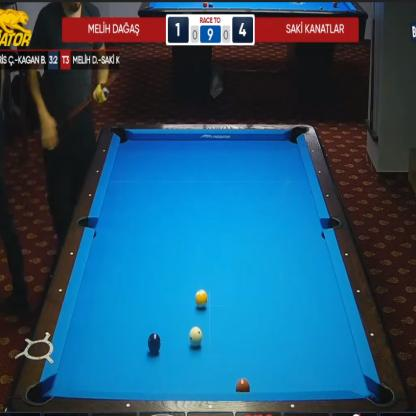Ball: (189, 326, 203, 348), (148, 332, 162, 353), (195, 290, 207, 308), (235, 378, 250, 392)
